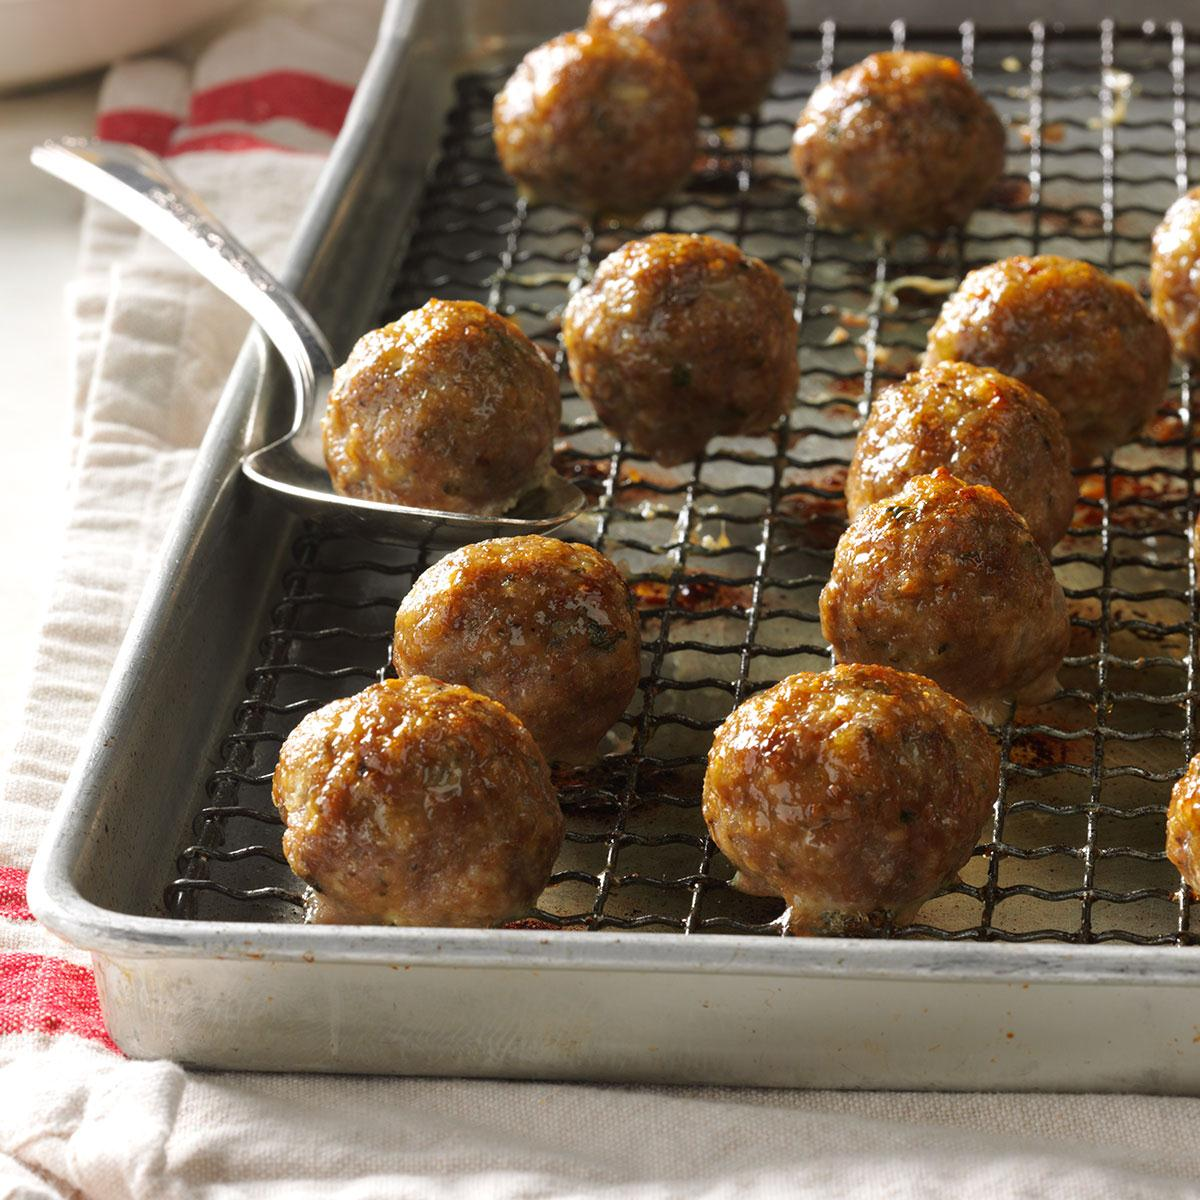meatballs: (708, 660, 973, 890), (257, 678, 535, 881), (378, 538, 651, 718), (873, 366, 1029, 663), (563, 233, 790, 430), (938, 266, 1163, 436), (351, 312, 545, 500), (499, 42, 714, 200), (808, 60, 1005, 230)
